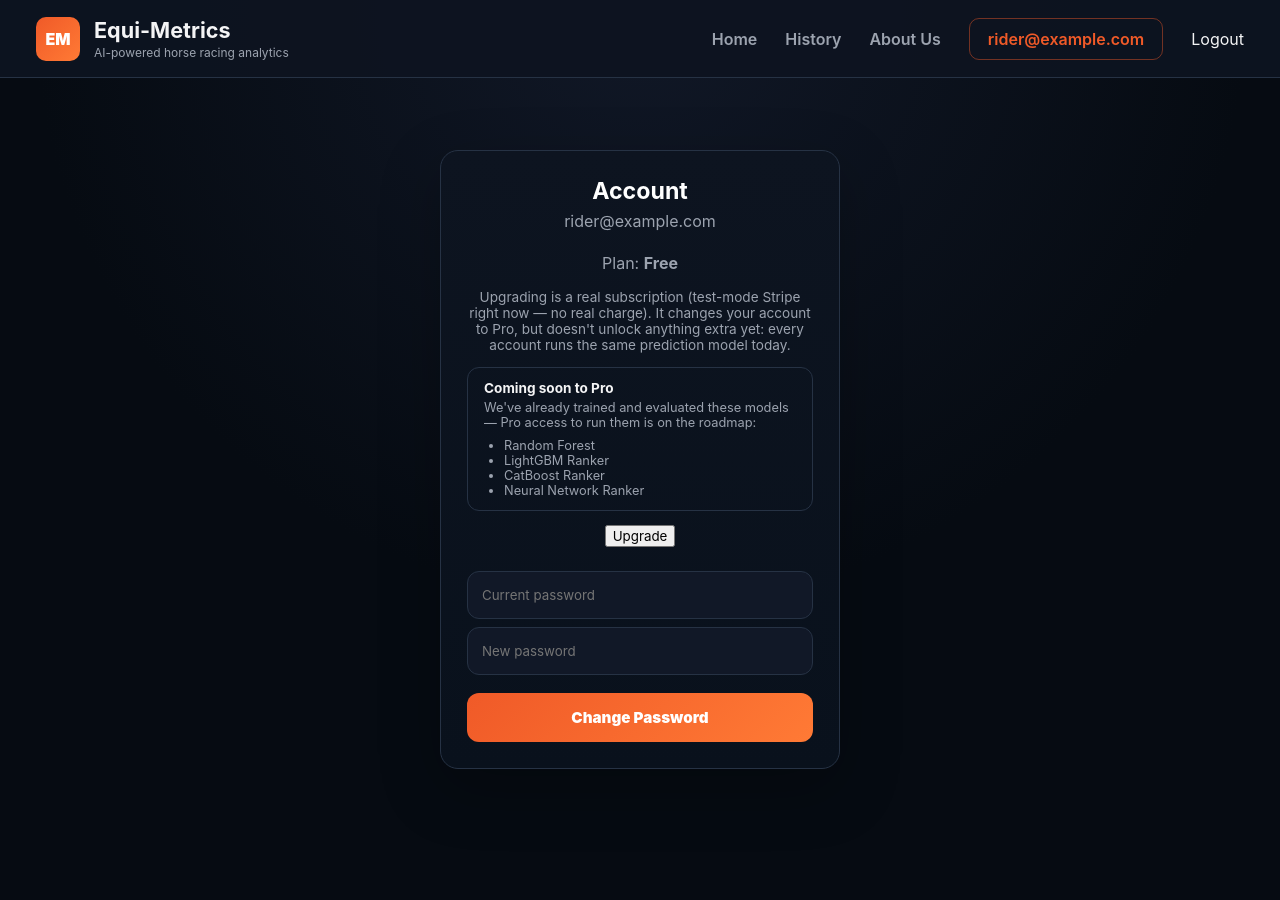
it: Account › subscription section › shows an error message if starting checkout fails
Click the button "Upgrade". click: [640, 536]
box: [605, 525, 675, 547]
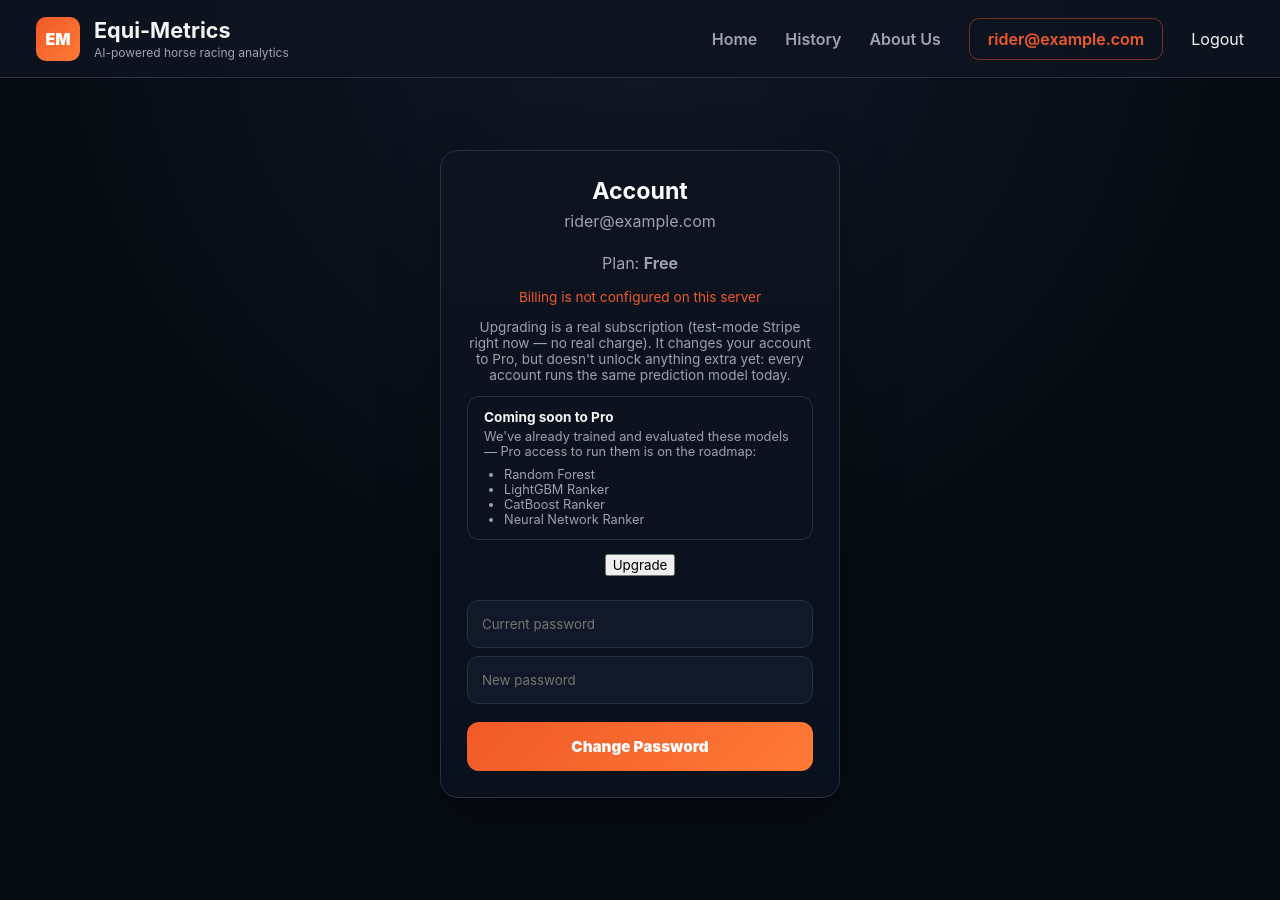
Now the text "Billing is not configured on this server" is shown, box [519, 289, 761, 305]
